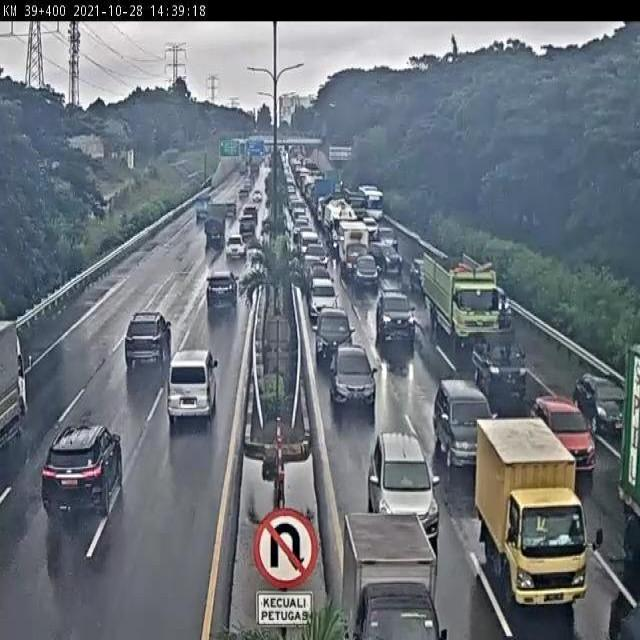car: (368, 432, 440, 543), (41, 429, 120, 515), (431, 376, 489, 464), (531, 388, 591, 464), (465, 321, 522, 392), (165, 349, 216, 420), (579, 378, 637, 433), (329, 342, 377, 402), (125, 312, 173, 365), (315, 306, 352, 362), (375, 289, 415, 340), (204, 270, 240, 310), (308, 276, 337, 321), (370, 242, 401, 270), (354, 255, 379, 285), (408, 255, 431, 285), (303, 253, 324, 280), (225, 234, 248, 258), (307, 264, 331, 285), (305, 244, 328, 265)
mid truck: (422, 251, 502, 348)
small truck: (475, 418, 586, 602), (340, 513, 436, 640), (340, 224, 370, 271)
